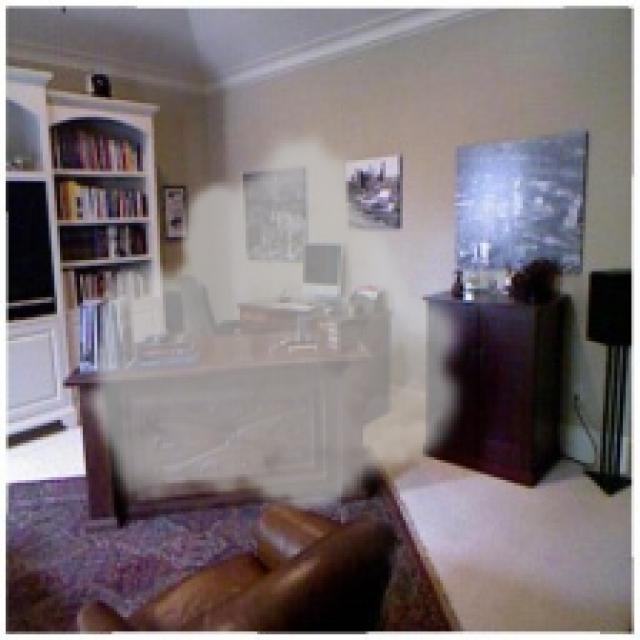smoke: (83, 123, 474, 517)
